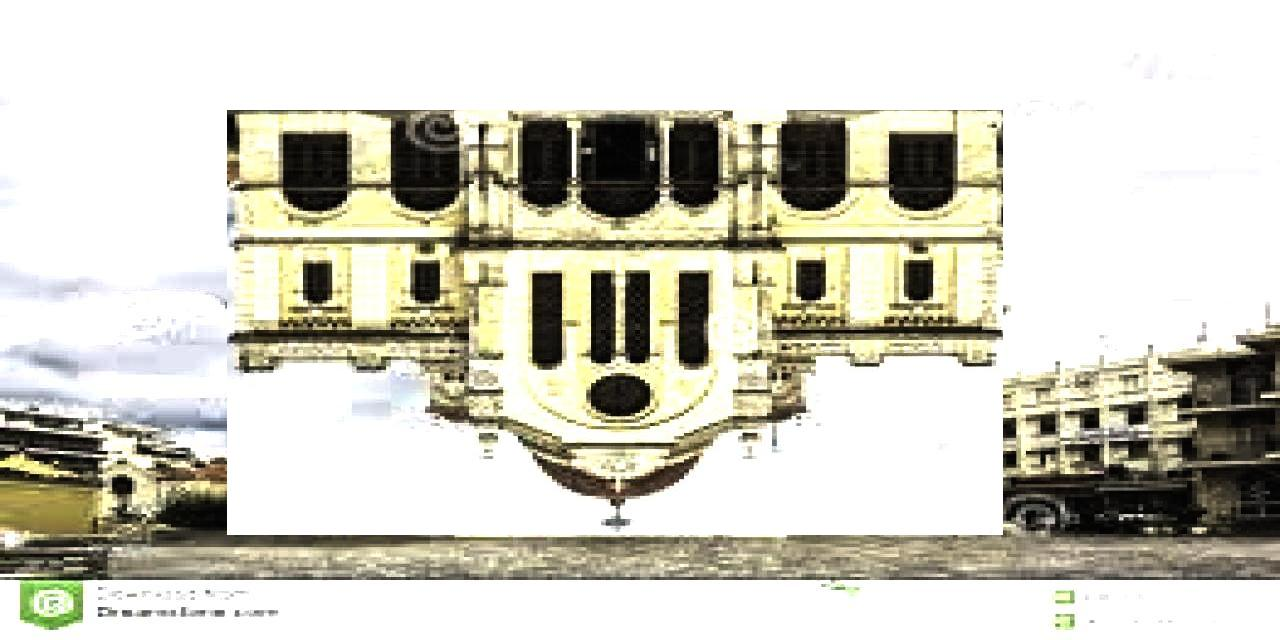Agios Minas: (228, 111, 1004, 536)
